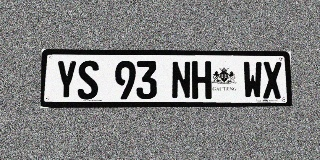3: (136, 61, 157, 99)
9: (115, 61, 136, 99)
H: (192, 61, 212, 99)
N: (171, 61, 191, 99)
S: (77, 60, 99, 100)
W: (243, 61, 263, 99)
X: (263, 62, 282, 99)
Y: (55, 60, 77, 100)
